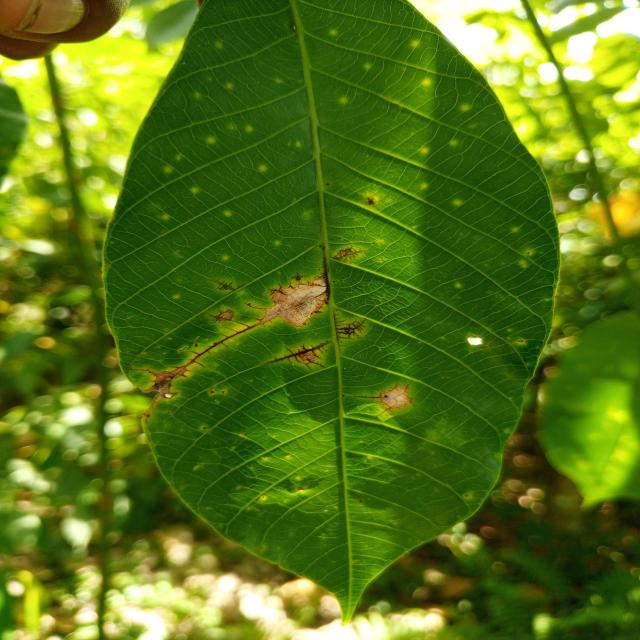Colletotrichum: (203, 426, 206, 429), (222, 391, 224, 393)
Corynespora: (171, 318, 267, 372), (263, 342, 328, 371), (333, 310, 367, 353), (318, 256, 331, 301), (330, 245, 364, 262), (208, 310, 236, 322), (212, 278, 235, 292), (265, 283, 287, 296), (132, 366, 158, 376), (355, 393, 381, 401), (245, 302, 267, 311), (299, 281, 325, 287), (288, 280, 295, 290)
Leaf-Blight: (265, 279, 326, 327), (141, 370, 186, 420), (380, 386, 411, 408)
